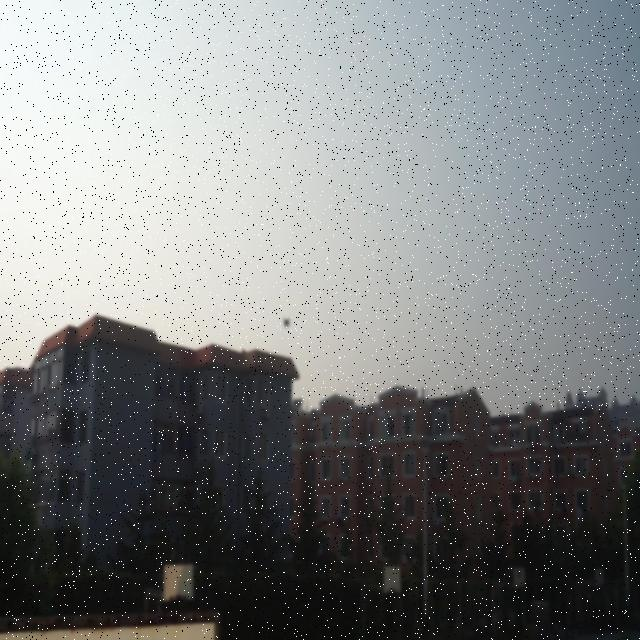UAV: (283, 315, 292, 329)
